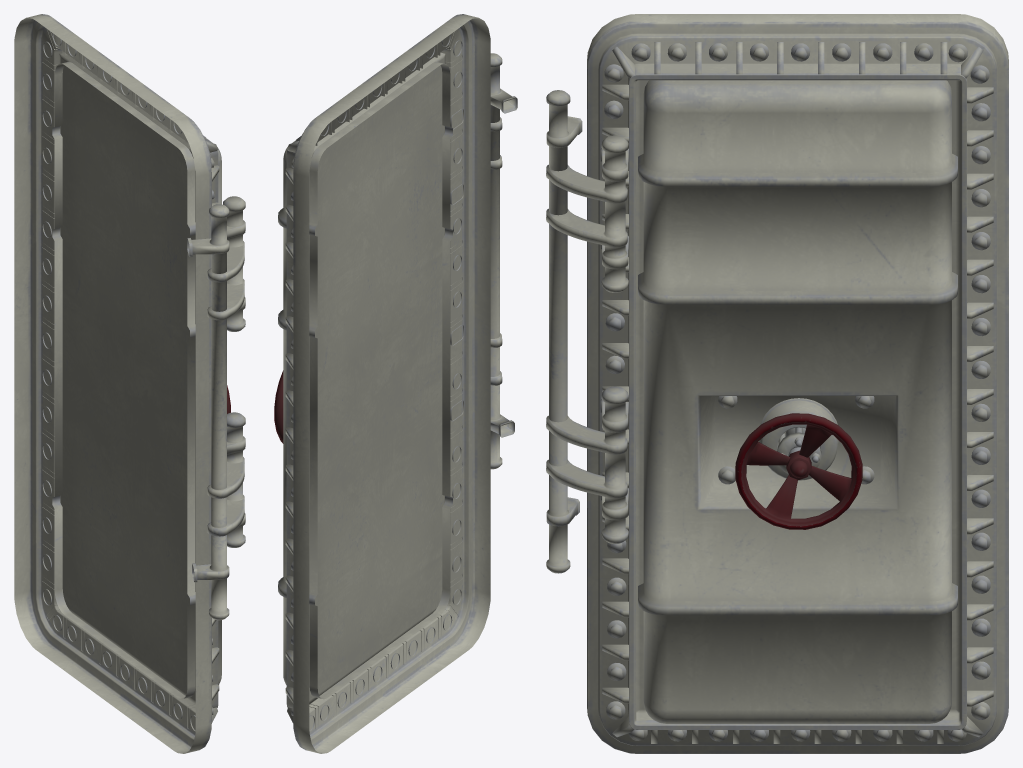
3 views of the same model, side by side, from view 1: azimuth 30°, elevation 25°; view 2: azimuth 150°, elevation 25°; view 3: azimuth 270°, elevation 25° (orthographic). The views are drawn at different scales.
Parts seen in each view (by area): view 1: Door; view 2: Door; view 3: Door.
Boxes of the visible parts, x1,y1,x2,y2 form: Door: (14,14,245,753); Door: (274,14,517,753); Door: (546,14,1008,753).
Bounding box in the file's own units: 58.87 × 301 × 173.
Materials: 1 (1 with a texture image).
